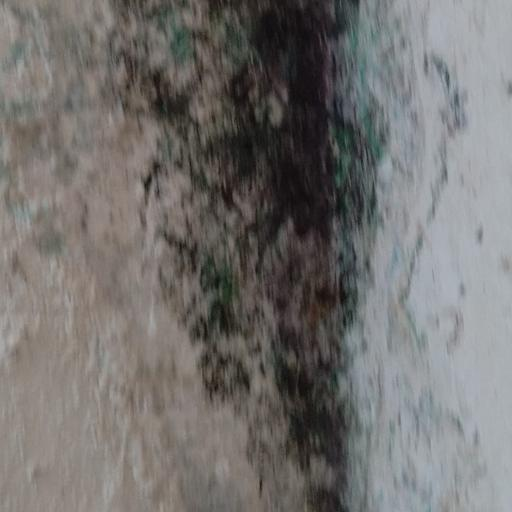algae: (83, 5, 491, 512)
